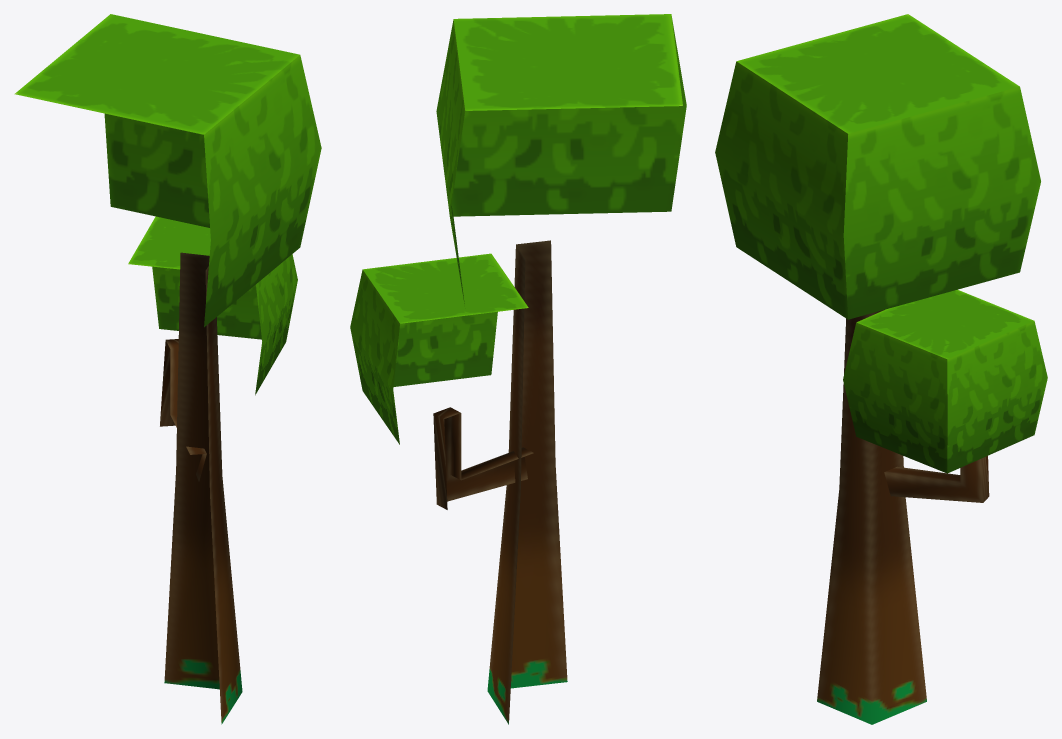
Rendered from NatureProps_Simple_OakGreen.fbx.
The picture shows the model from 3 angles, left to right: view 1: azimuth 30°, elevation 25°; view 2: azimuth 150°, elevation 25°; view 3: azimuth 270°, elevation 25°; orthographic projection. The views are drawn at different scales.
Visible parts, largest first — view 1: Cube; view 2: Cube; view 3: Cube.
Boxes of the visible parts, left/top/right/bottom form: Cube: left=14, top=14, right=321, bottom=724; Cube: left=350, top=14, right=686, bottom=724; Cube: left=715, top=14, right=1047, bottom=724.
Size of the model in its own units: 243 by 485 by 239.
